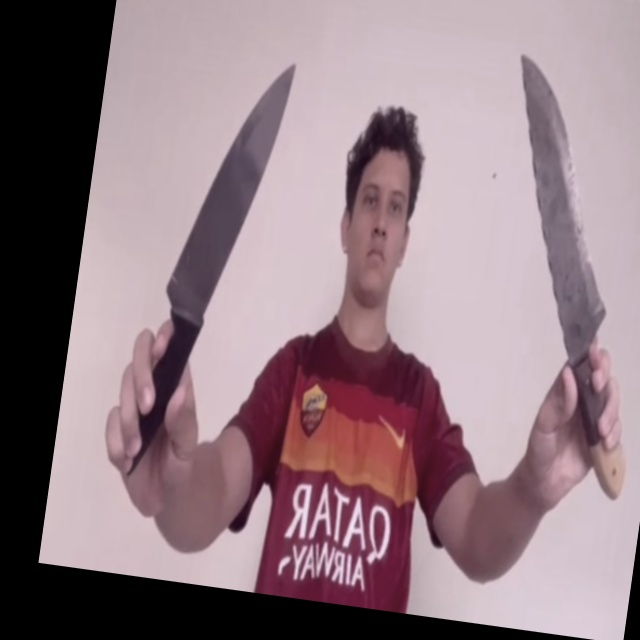Sharp-Object: (482, 52, 640, 352), (165, 47, 298, 313)
